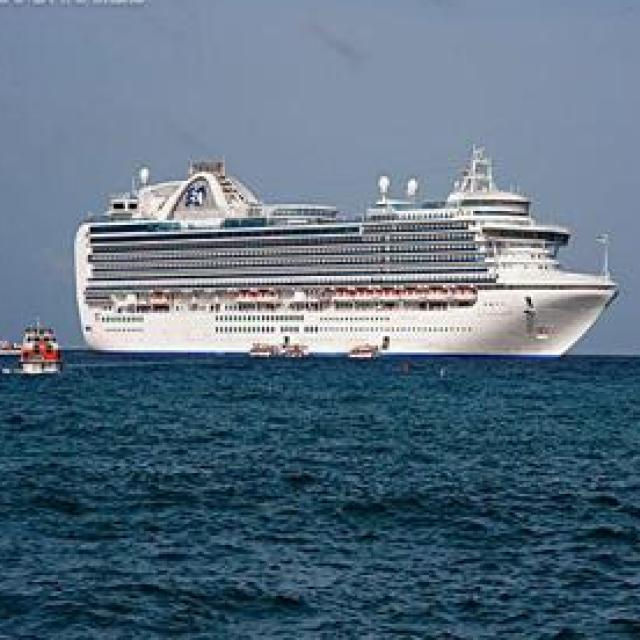passenger ship: (71, 140, 624, 354), (15, 305, 65, 375)
